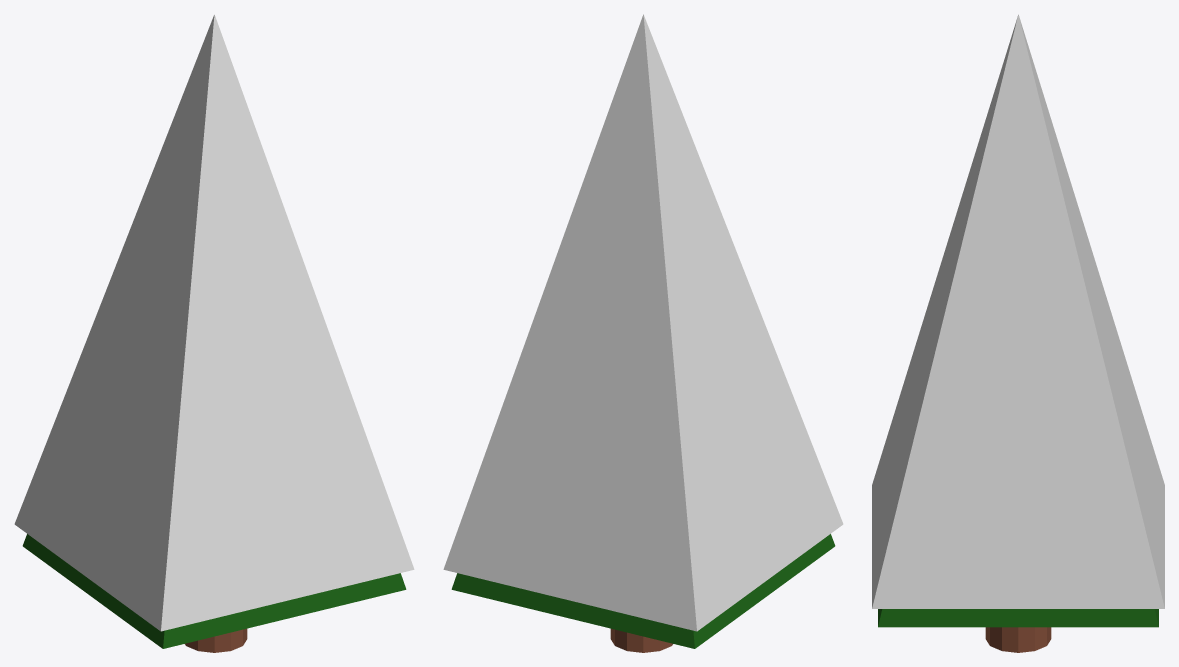
The model's file is Tree_36_winter_pal.fbx.
The picture shows the model from 3 angles, left to right: view 1: azimuth 30°, elevation 25°; view 2: azimuth 150°, elevation 25°; view 3: azimuth 270°, elevation 25°; orthographic projection.
Parts seen in each view (by area): view 1: Tree_36_winter_pal; view 2: Tree_36_winter_pal; view 3: Tree_36_winter_pal.
Part boxes in pixels (x1,y1,x2,y2): Tree_36_winter_pal: (14, 14, 414, 652); Tree_36_winter_pal: (443, 14, 843, 652); Tree_36_winter_pal: (872, 14, 1164, 652).
Size of the model in its own units: 71.97 by 169 by 71.97.
